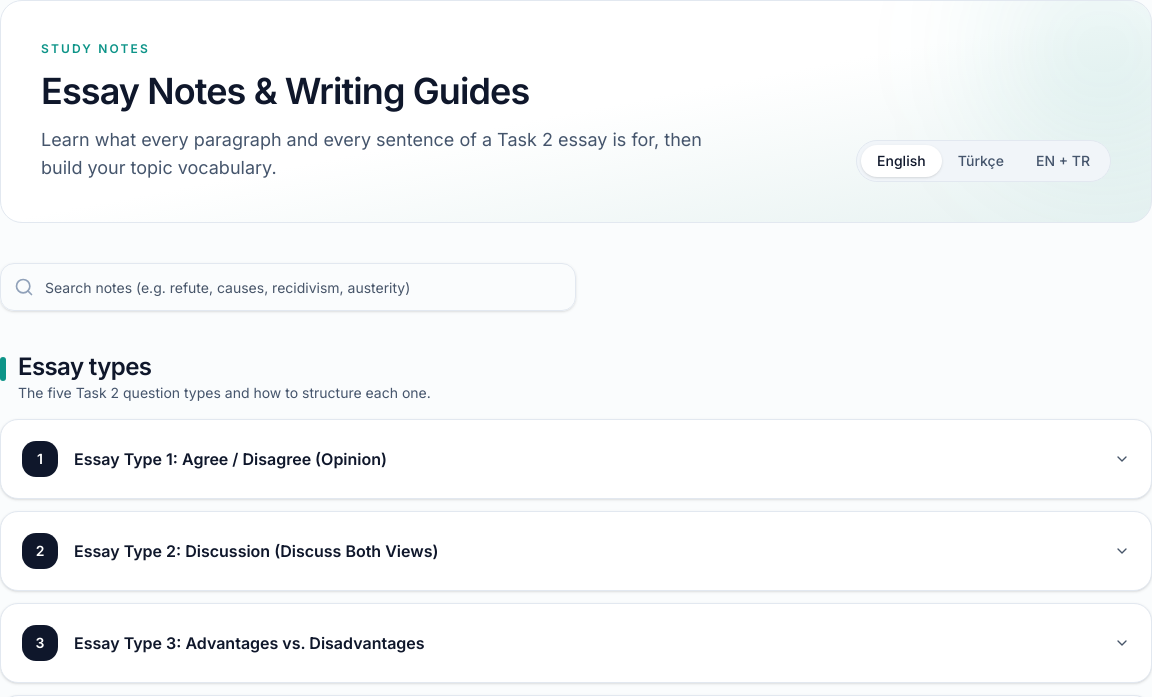
Test: NotesBrowser › reveals the template phrase when opened
The width and height of the screenshot is (1152, 697).
Click the button "1 Essay Type 1: Agree / Disagree (Opinion)": click(40, 459) [21,420,1131,498]
(page scrolled)
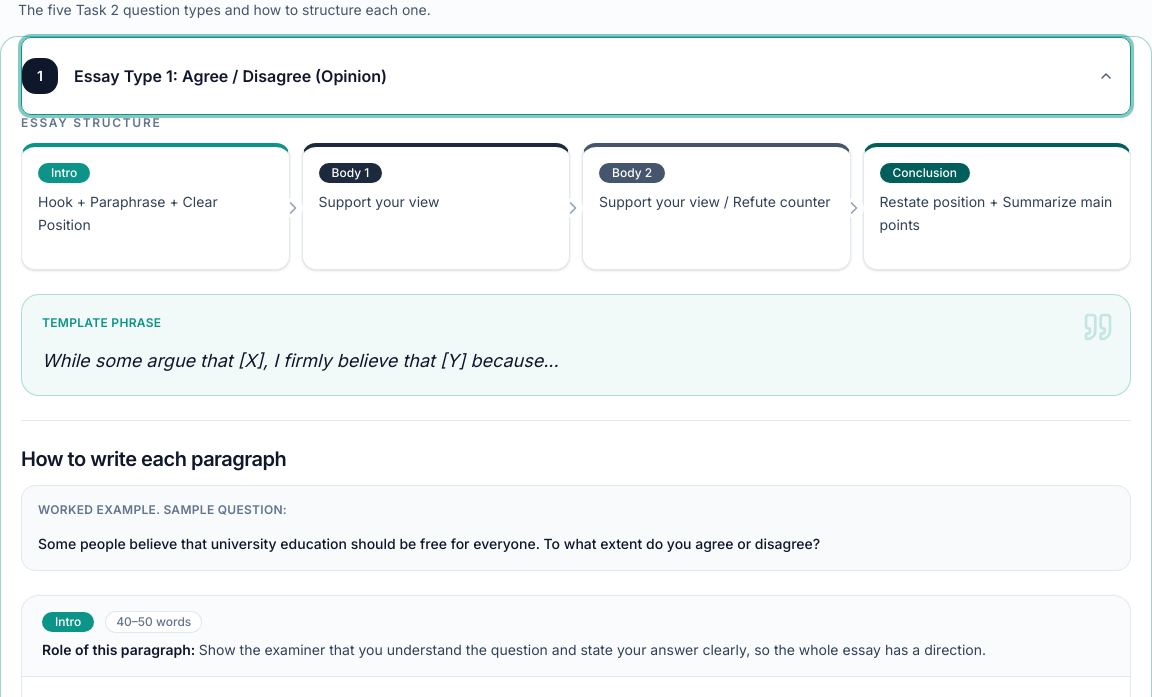
Result: the text "While some argue that [X], I firmly believe that [Y] because..." is shown at [42,350,559,370]
